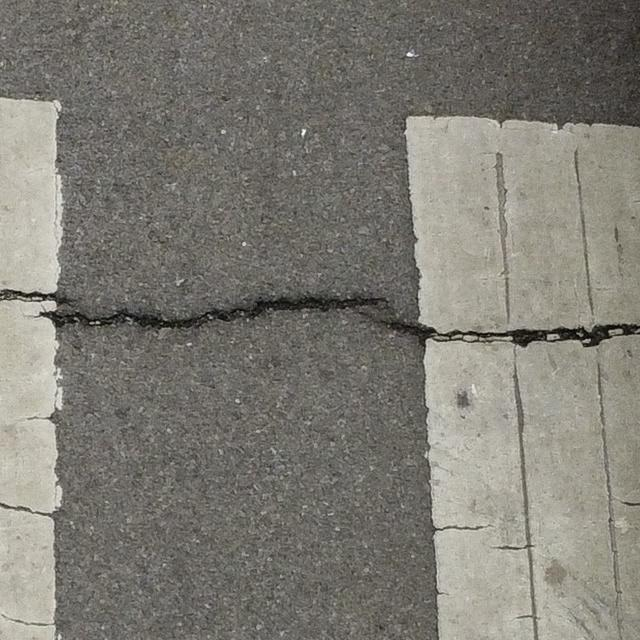TransverseCrack: (1, 289, 386, 333), (370, 313, 640, 349)
